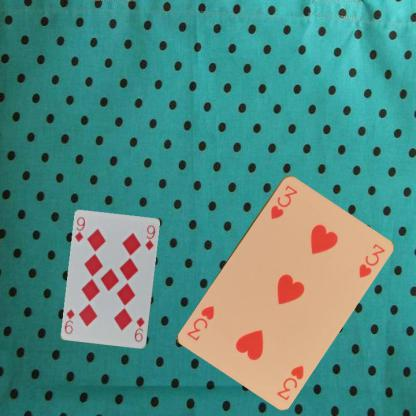3h: (274, 362, 305, 402), (268, 182, 298, 220)
9d: (72, 214, 86, 244), (132, 315, 146, 343)
